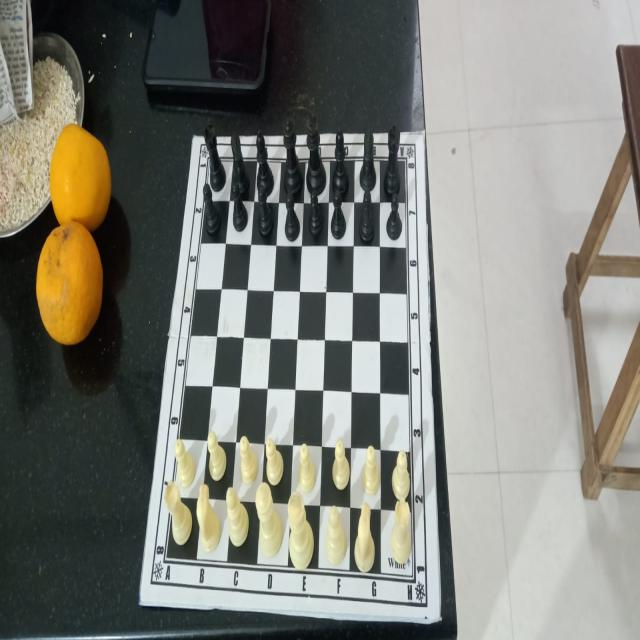corners: (132, 586, 148, 611), (188, 123, 201, 150), (418, 122, 429, 146), (432, 606, 445, 626)
